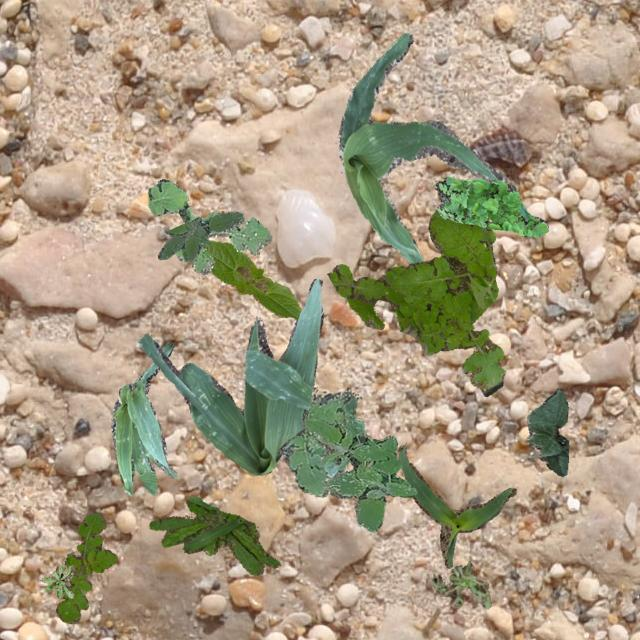crop: (336, 32, 506, 264), (138, 277, 322, 473), (396, 444, 514, 568), (110, 342, 178, 494), (200, 240, 300, 318), (524, 388, 568, 476)
weed: (326, 208, 504, 396), (300, 412, 416, 530), (147, 178, 270, 272), (148, 496, 278, 574), (280, 389, 370, 496), (434, 176, 548, 237), (55, 510, 116, 622), (156, 210, 242, 262), (430, 560, 490, 608), (40, 564, 74, 598)
